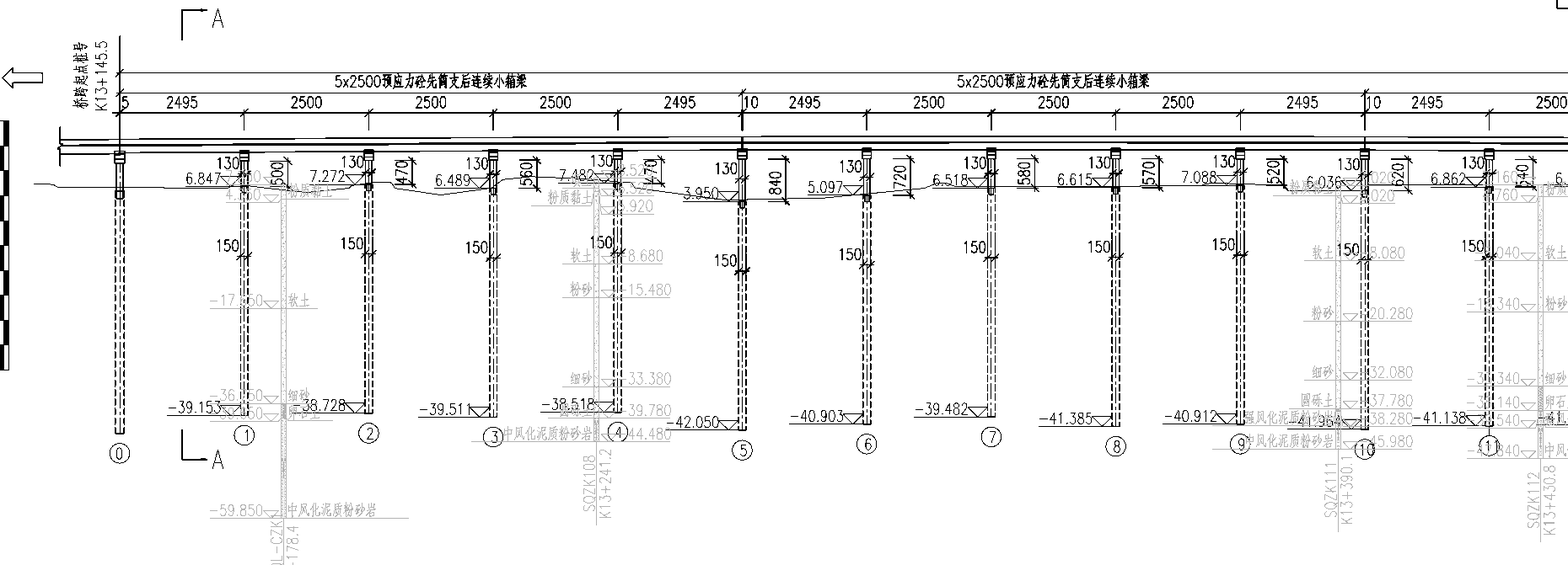B: (745, 60, 1374, 109), (126, 61, 751, 108)
C: (1157, 139, 1261, 462), (1036, 139, 1138, 464), (786, 141, 889, 462), (666, 140, 766, 466), (164, 141, 266, 450), (1415, 140, 1512, 462), (914, 140, 1012, 458), (415, 141, 513, 454), (1293, 140, 1386, 463), (293, 141, 390, 450), (545, 141, 640, 449)
